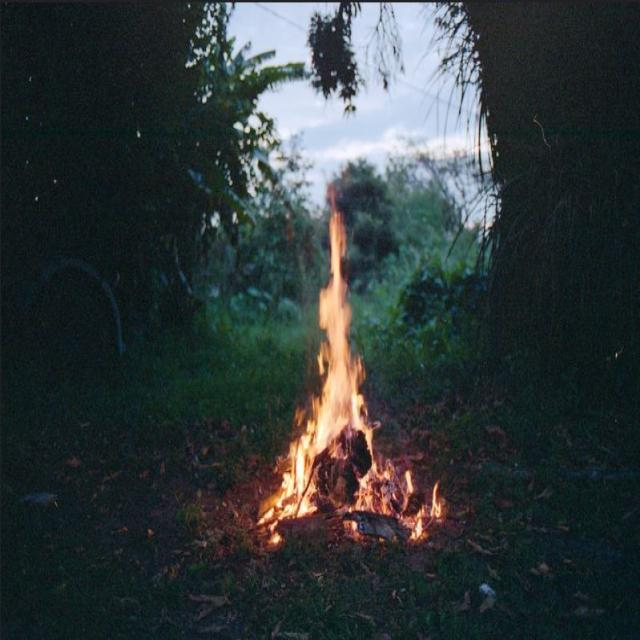Fire: (262, 393, 438, 539), (318, 188, 361, 392)
